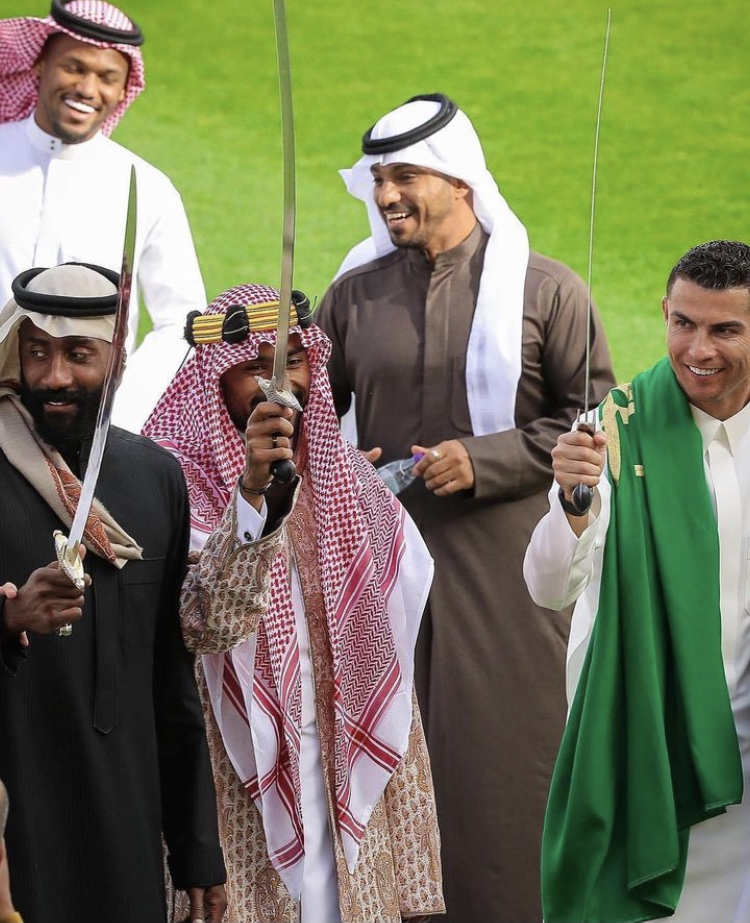Saudi_Founding_Day: (133, 278, 450, 922)
